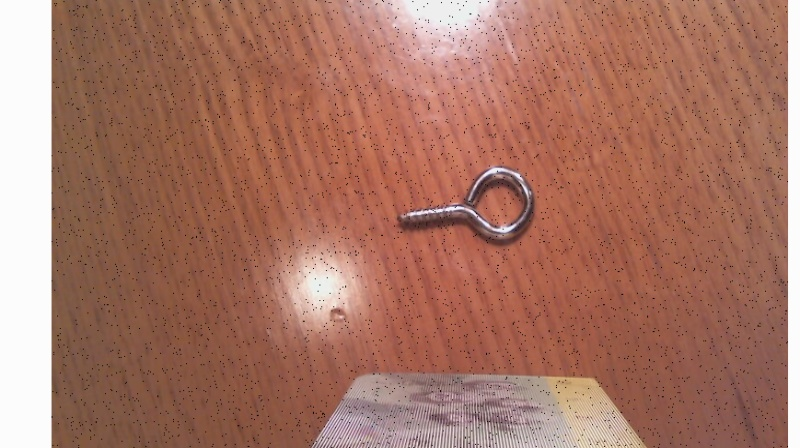O001: (392, 163, 539, 249)
